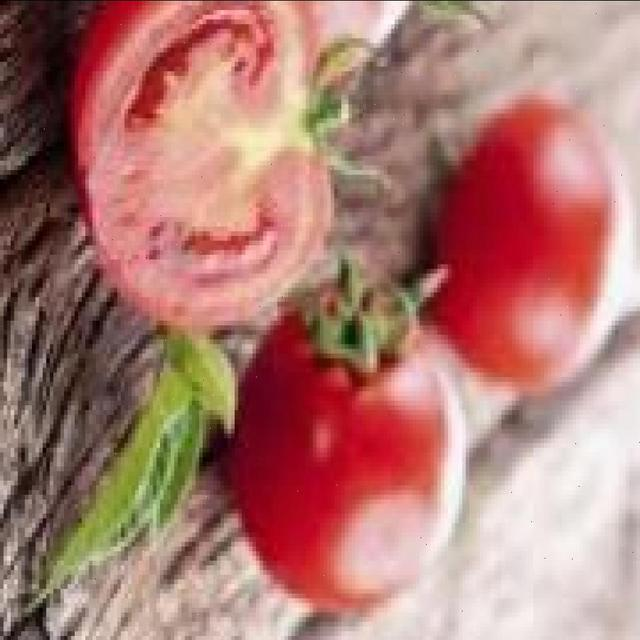Healthy Fruit: (120, 163, 360, 298)
